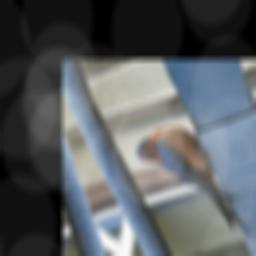Swallow: (129, 114, 251, 256)
